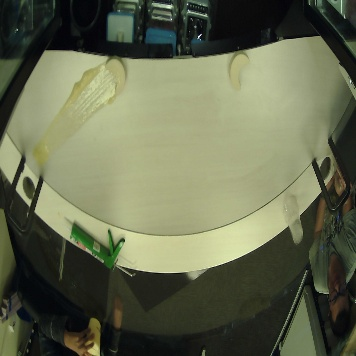empty_cup: (283, 195, 305, 245)
puck: (229, 50, 250, 90), (107, 57, 127, 93)
